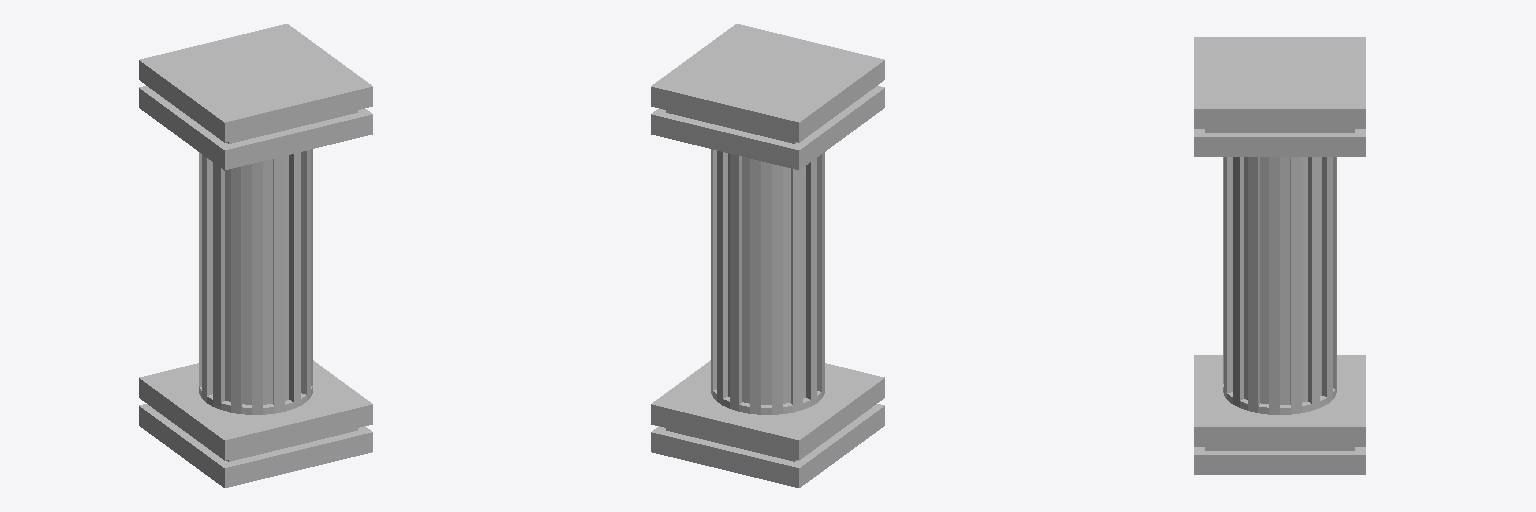
The model's file is Pillar.obj.
3 views of the same model, side by side, from view 1: azimuth 30°, elevation 25°; view 2: azimuth 150°, elevation 25°; view 3: azimuth 270°, elevation 25° (orthographic).
Visible parts, largest first — view 1: Pillar, Top, Base; view 2: Pillar, Top, Base; view 3: Pillar, Top, Base.
Boxes of the visible parts, box(x1,y1,x2,y2) form: Pillar: box(199, 149, 312, 414); Top: box(139, 24, 372, 170); Base: box(139, 360, 372, 487); Pillar: box(711, 149, 824, 414); Top: box(651, 24, 884, 170); Base: box(651, 360, 884, 487); Pillar: box(1223, 157, 1336, 414); Top: box(1194, 37, 1365, 156); Base: box(1194, 355, 1365, 474).
Bounding box in the file's own units: 30.09 × 70.71 × 30.09.